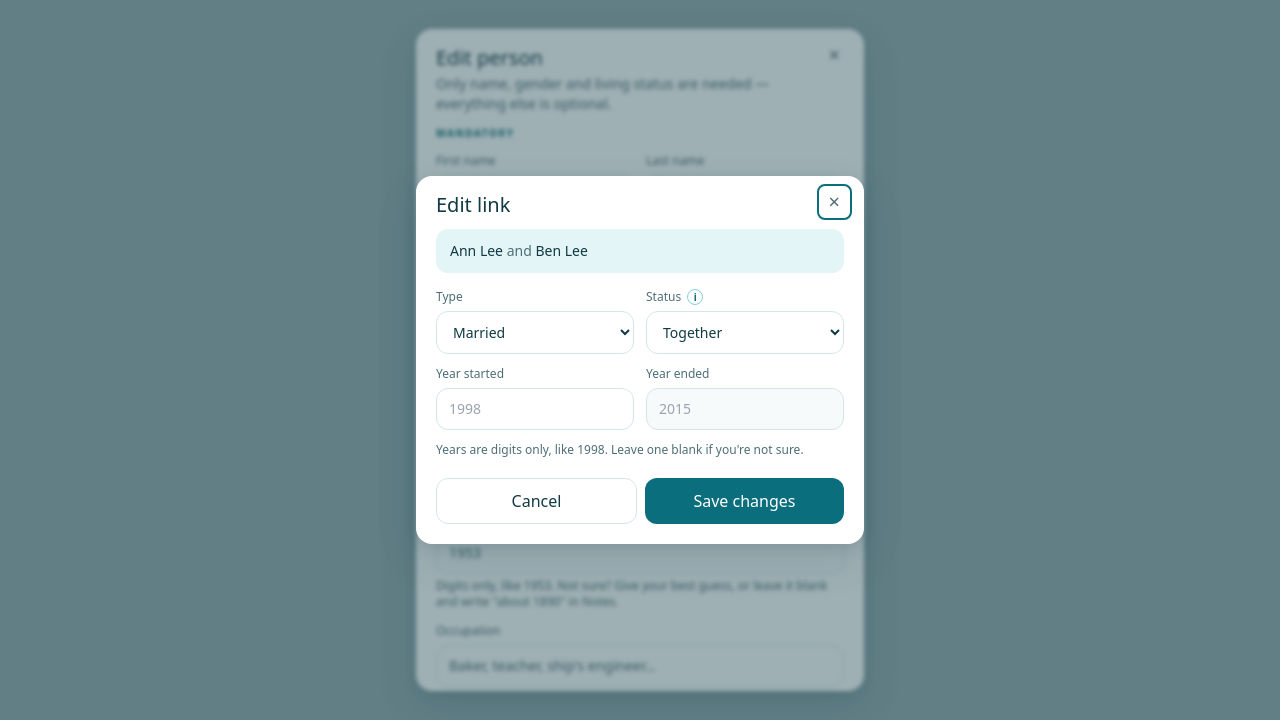
Test case: editing a link from the person form (F1, F2) › partnership years carry the same digits-only hint (L4)
Type "about 2001" into the field with placeholder "1998".
click(535, 409); type("about 2001")  # box [436,388,634,430]
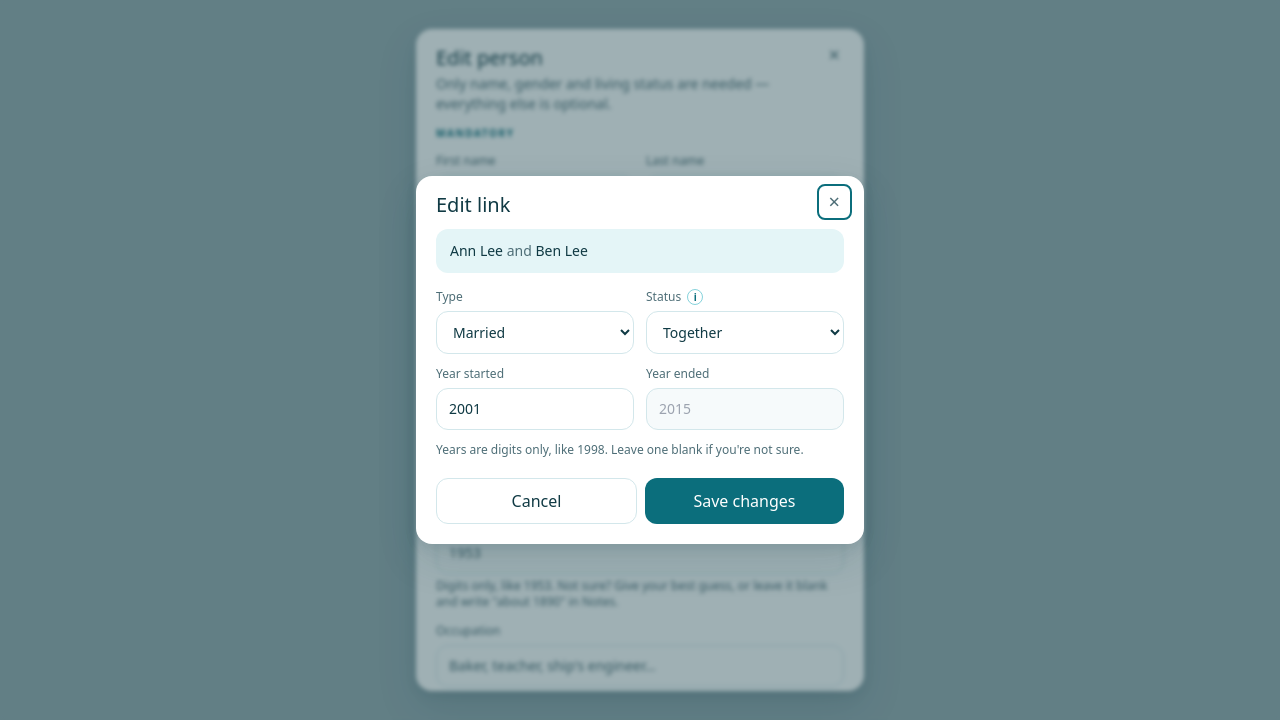
Expected: the field with placeholder "1998" holds "2001", [436,388,634,430]
